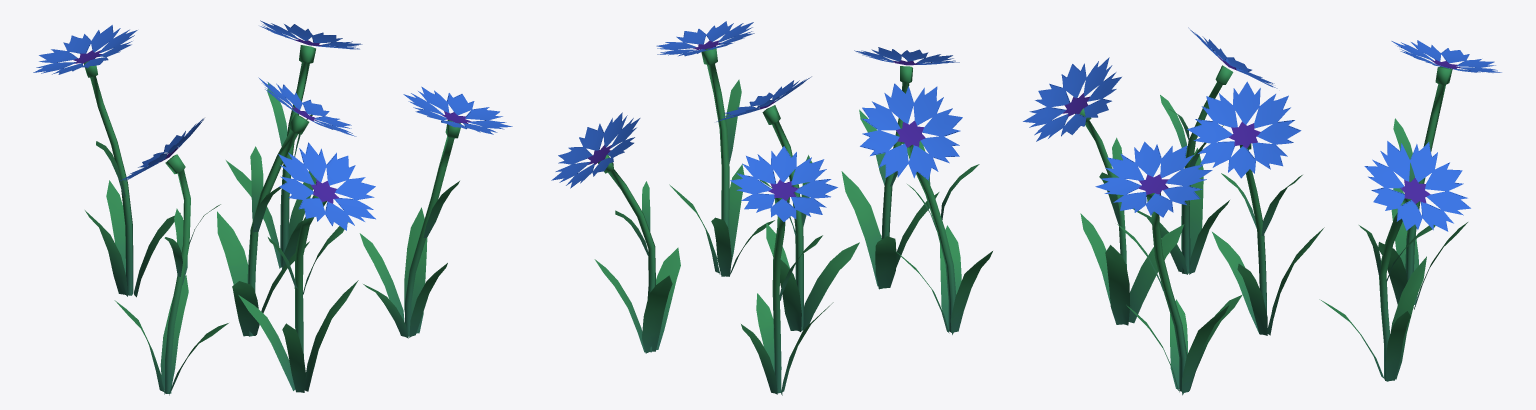
File: Flower Patch Cornflower Optimized.fbx
3 renders of one model, left to right at view 1: azimuth 30°, elevation 25°; view 2: azimuth 150°, elevation 25°; view 3: azimuth 270°, elevation 25°, orthographic. The views are drawn at different scales.
Visible parts, largest first — view 1: Cornflowers; view 2: Cornflowers; view 3: Cornflowers.
Part boxes in pixels (left/top/right/bottom): Cornflowers: left=33, top=20, right=512, bottom=395; Cornflowers: left=551, top=21, right=992, bottom=395; Cornflowers: left=1023, top=27, right=1501, bottom=395.
Bounding box in the file's own units: 0.3371 × 0.2197 × 0.374.
